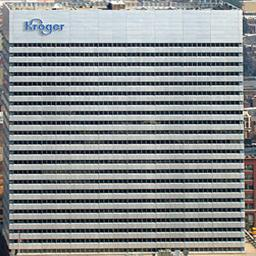building: (9, 6, 247, 255)
